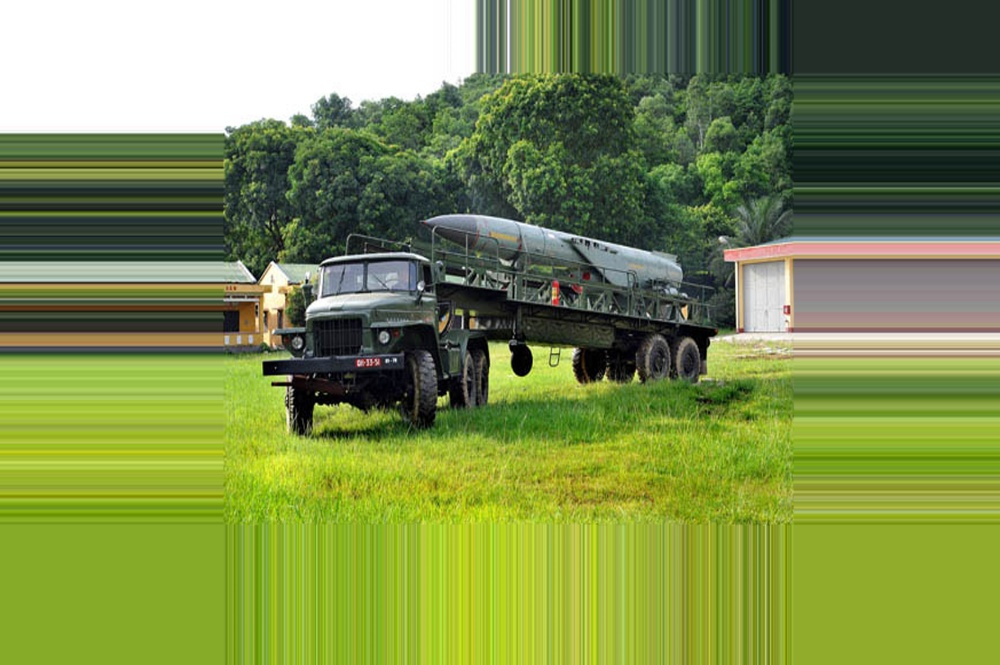plate: (351, 354, 387, 368)
